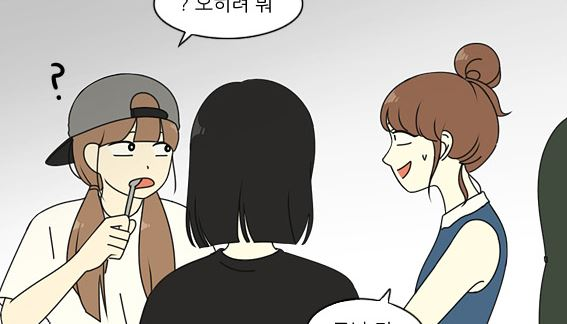hat: (43, 73, 182, 169)
